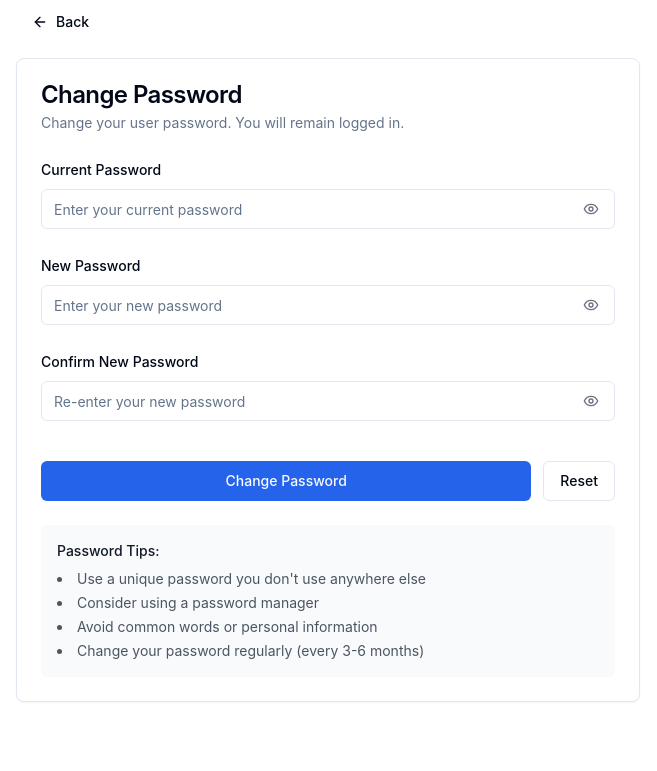
Scenario: ChangePasswordPage › Form Validation › should show error when passwords do not match
Step 1. Type "currentpass" into the password field labelled "Current Password" → (328, 209), box [41,189,615,229]
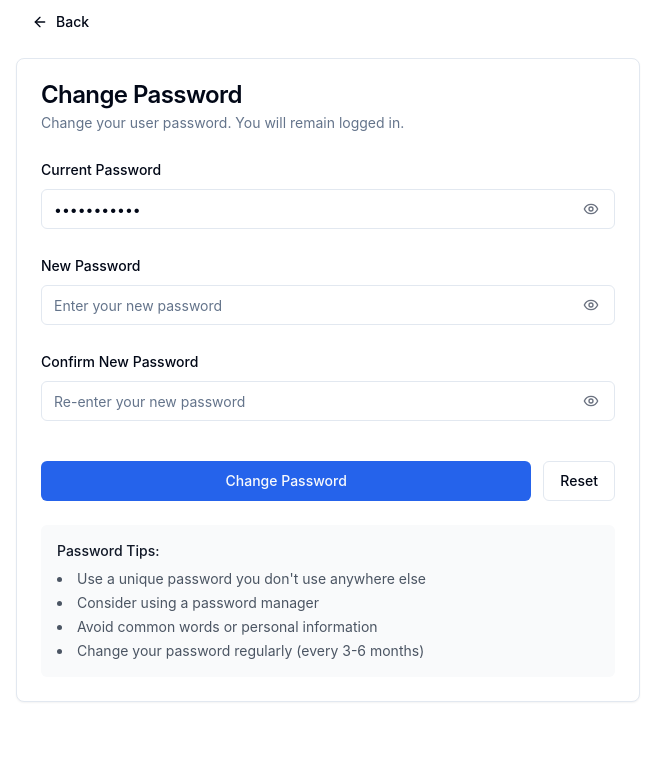
Step 2. Type "NewPass123!" into the password field labelled "New Password" → (328, 305), box [41,285,615,325]
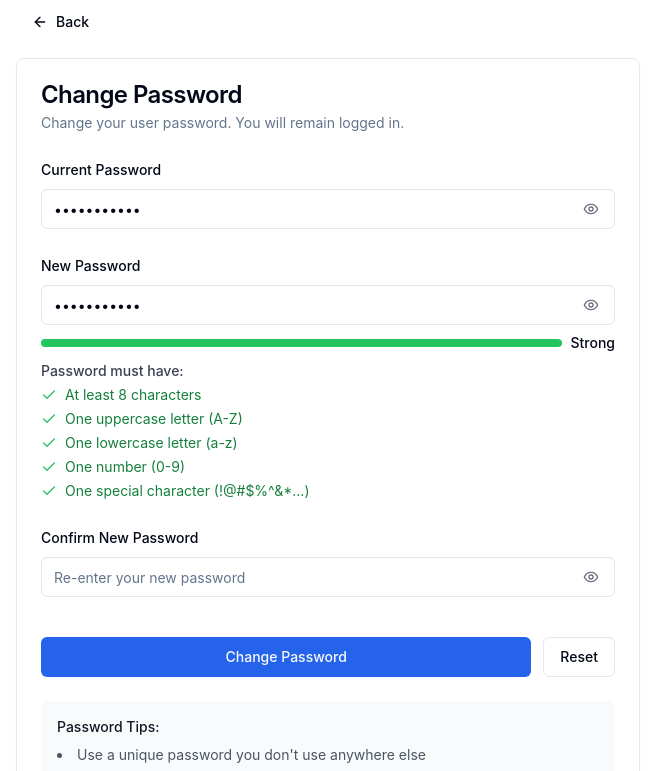
Step 3. Type "DifferentPass123!" into the password field labelled "Confirm New Password" → (328, 577), box [41,557,615,597]
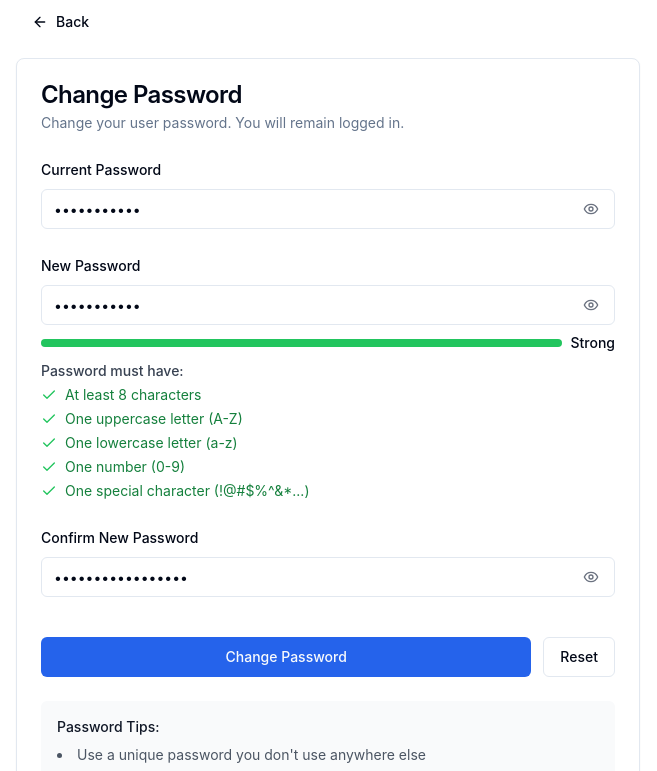
Step 4. Click the button "Change Password" → (286, 657), box [41,637,531,677]
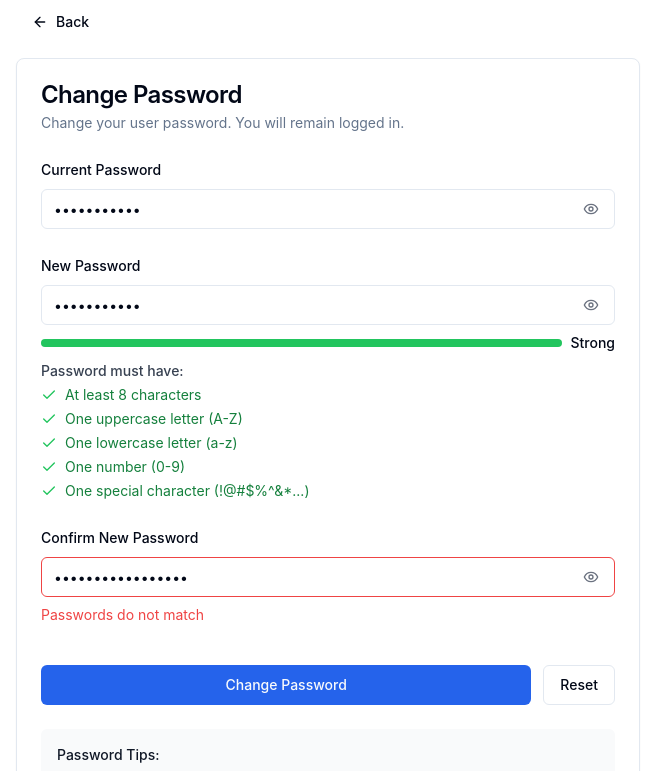
Expected: the text "Passwords do not match" is shown, [41,606,204,623]
